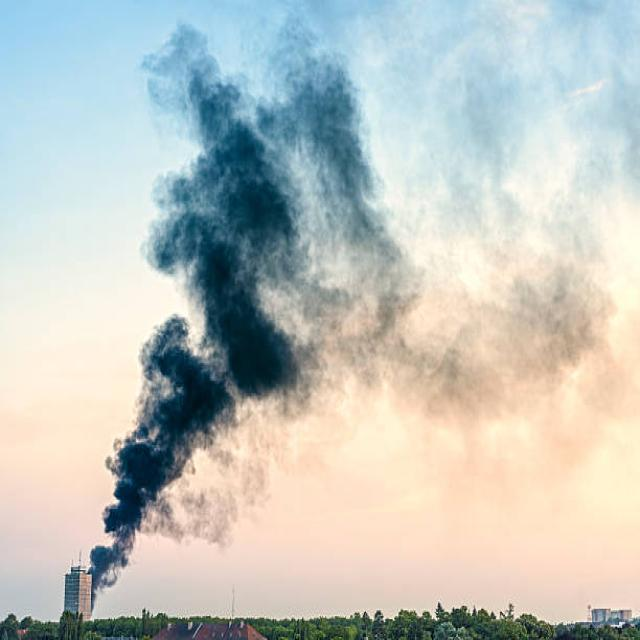Smoke: (146, 36, 429, 408), (431, 0, 640, 408), (90, 421, 238, 569)
